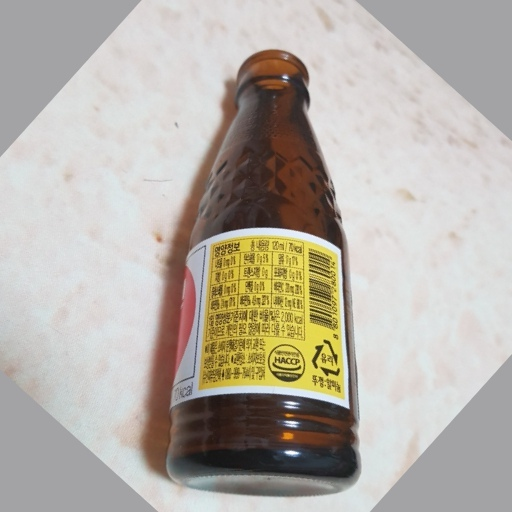Glass_3: (166, 47, 363, 497)
